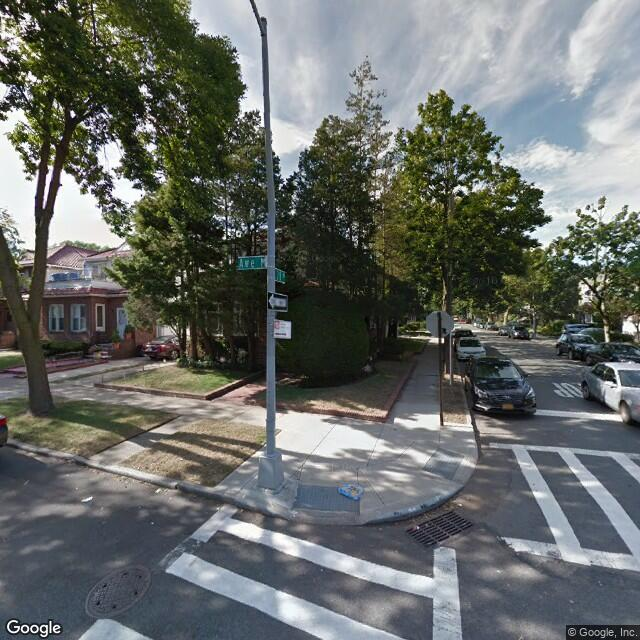litter: (339, 485, 368, 499), (77, 495, 94, 504)
